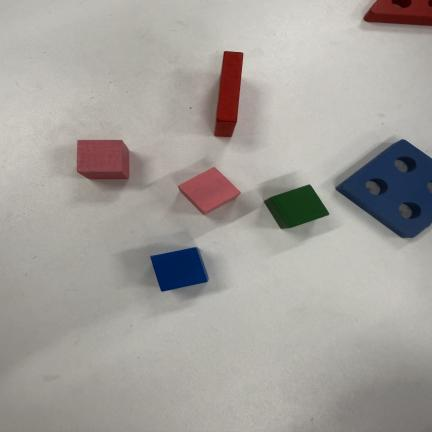BuildingBlocks: (337, 140, 431, 237), (179, 168, 240, 214), (265, 185, 328, 228), (151, 248, 208, 291), (215, 52, 243, 136), (77, 140, 129, 179), (365, 0, 431, 25)
